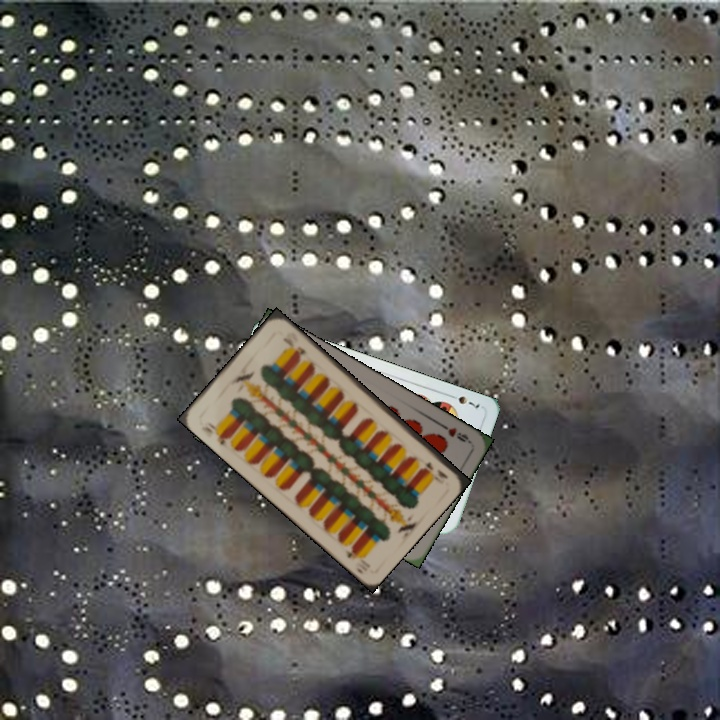E10: (197, 418, 232, 447), (420, 458, 451, 482)
H9: (436, 419, 473, 446)
S7: (445, 390, 484, 411)
